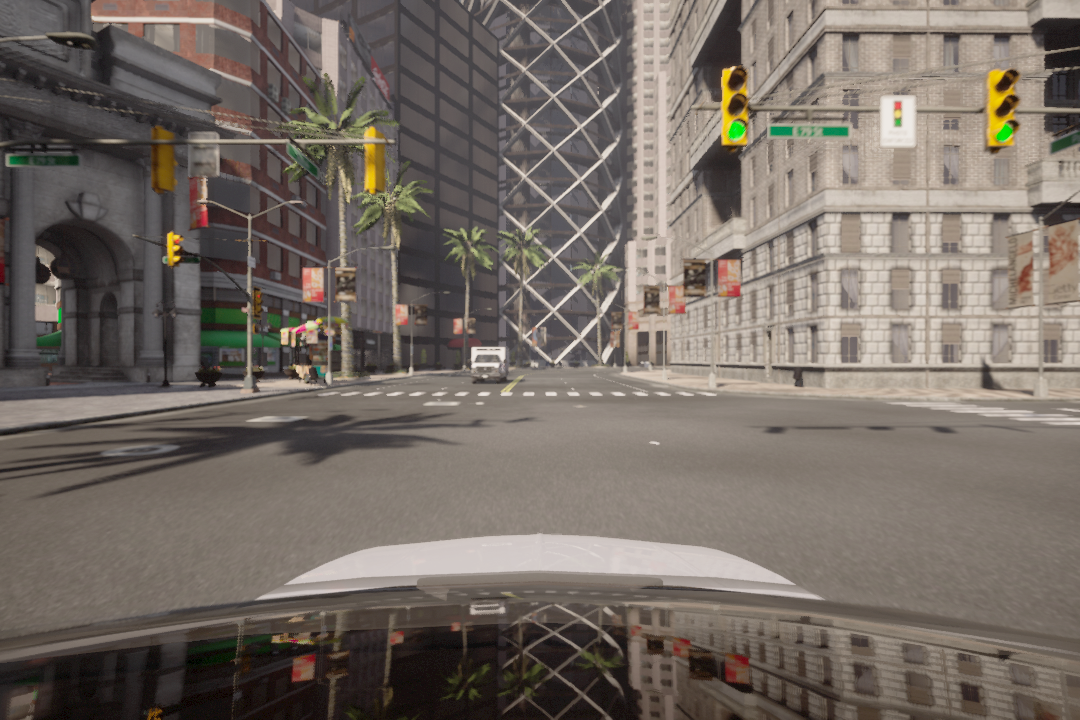TrafficLight: (987, 71, 1023, 153), (722, 70, 751, 148), (161, 234, 186, 269)
walkside: (315, 387, 724, 404)
